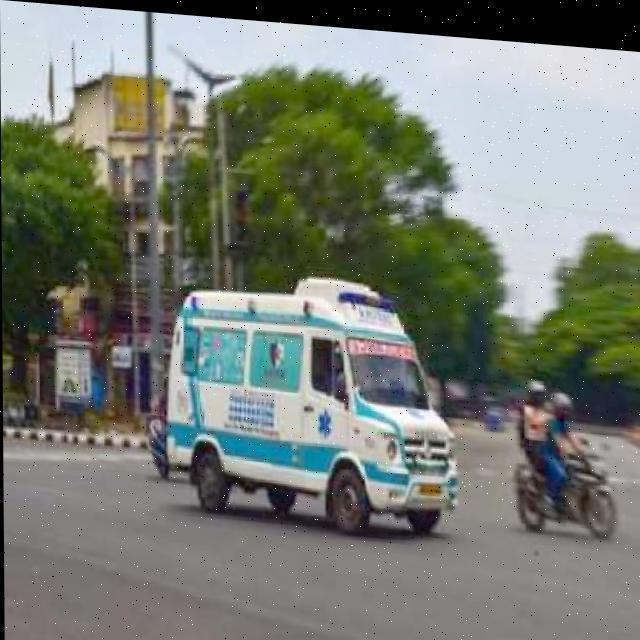Ambulance: (2, 378, 640, 640), (141, 256, 461, 538), (2, 386, 38, 432)
bike: (512, 366, 590, 514)
